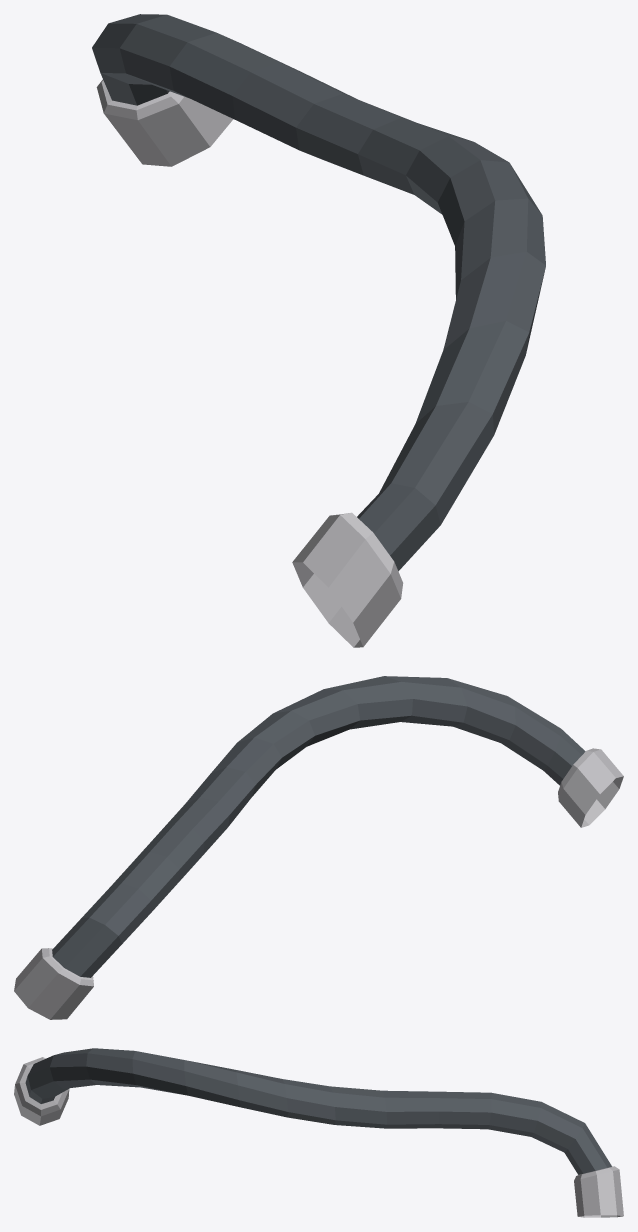
Rendered from Personal_Vehicle_04_Connecting_Tubes_1.fbx.
3 renders of one model, top to bottom at view 1: azimuth 30°, elevation 25°; view 2: azimuth 150°, elevation 25°; view 3: azimuth 270°, elevation 25°, orthographic. The views are drawn at different scales.
Visible parts, largest first — view 1: Personal_Vehicle_04_Connecting_Tubes_1; view 2: Personal_Vehicle_04_Connecting_Tubes_1; view 3: Personal_Vehicle_04_Connecting_Tubes_1.
Part boxes in pixels (x1=…): Personal_Vehicle_04_Connecting_Tubes_1: x1=92, y1=14, x2=545, y2=647; Personal_Vehicle_04_Connecting_Tubes_1: x1=14, y1=676, x2=623, y2=1019; Personal_Vehicle_04_Connecting_Tubes_1: x1=14, y1=1048, x2=623, y2=1217.
Size of the model in its own units: 34 by 18.93 by 73.61.
Materials: 1 (1 with a texture image).
